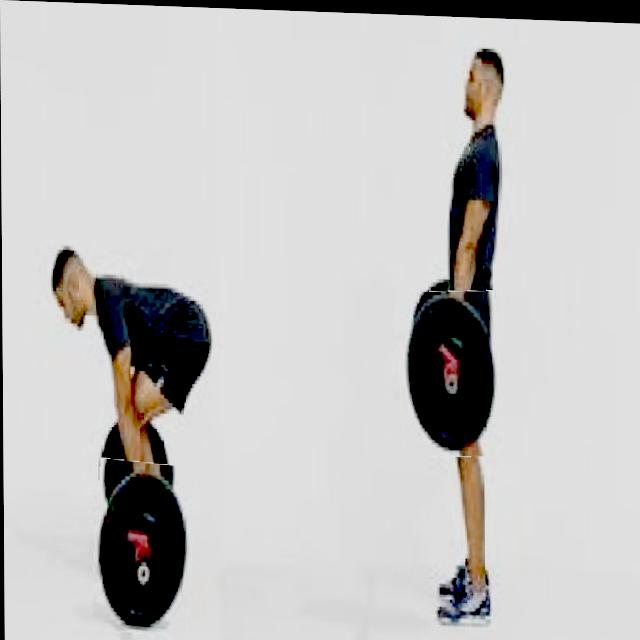barbell: (93, 459, 196, 636), (398, 286, 503, 457)
